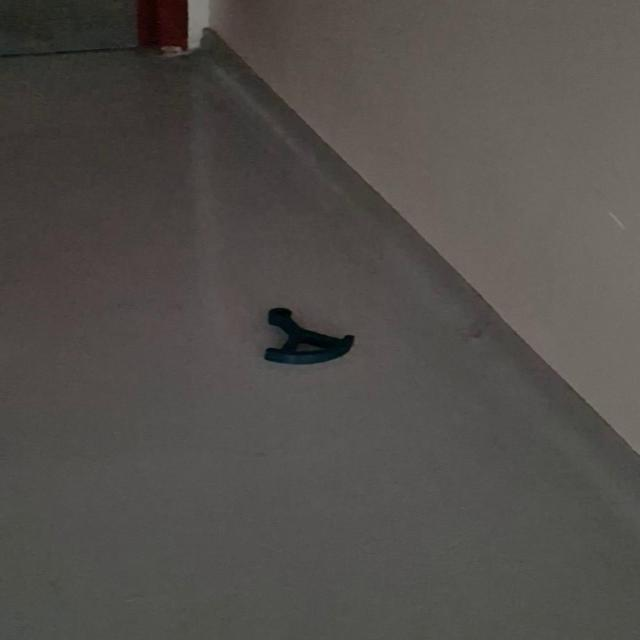haptic: (263, 307, 356, 366)
